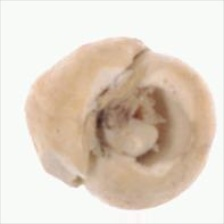L3: (88, 83, 170, 165)
L4: (24, 35, 216, 210)
